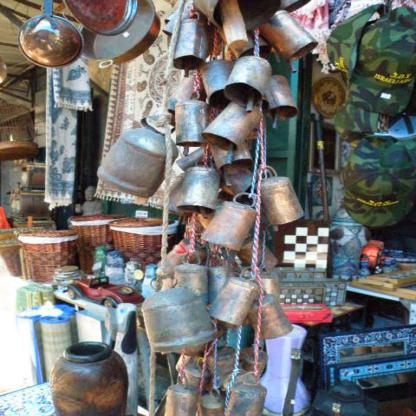vase: (40, 342, 130, 416)
